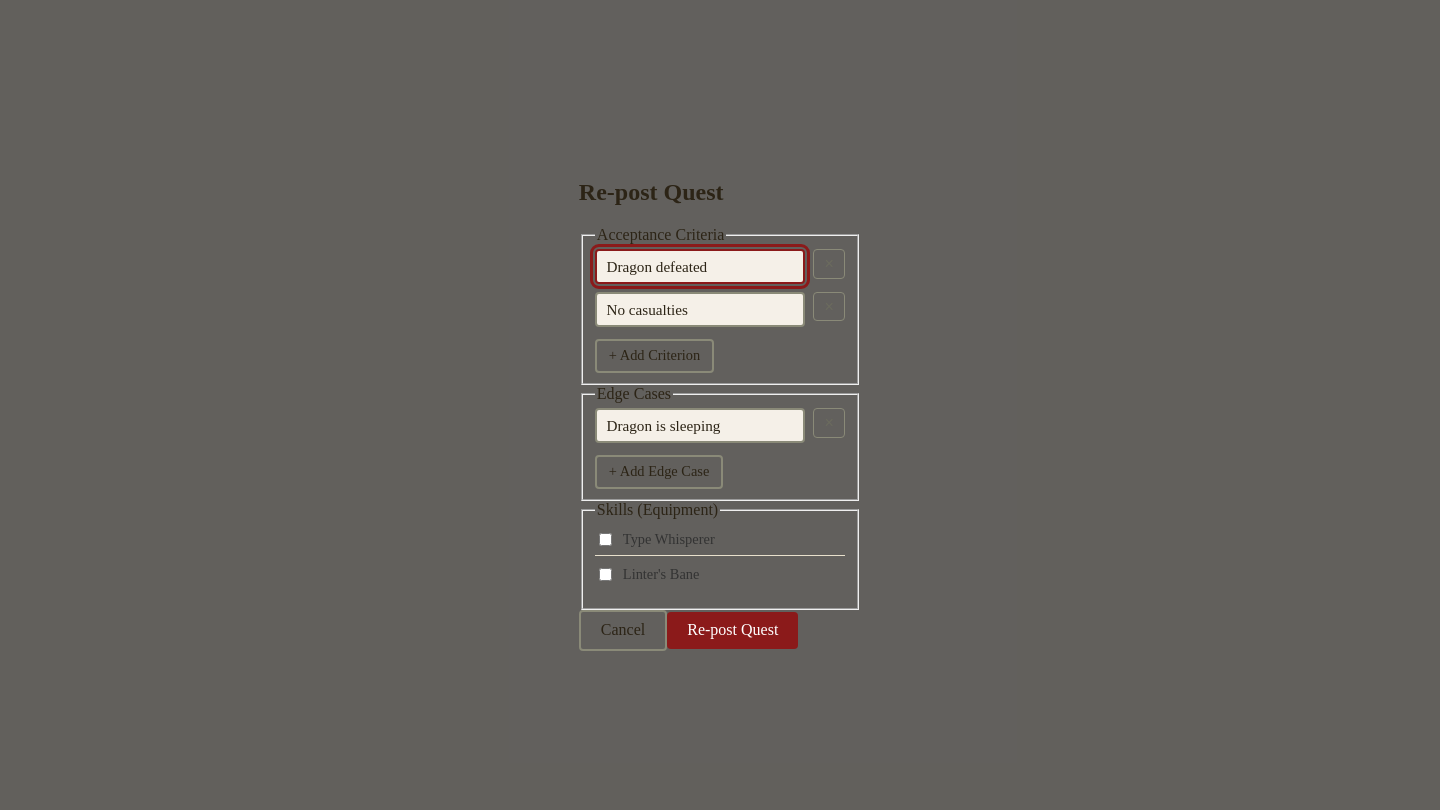
RepostDialog › submit button is disabled when all ACs are cleared
Clear the field named "Criterion 1". click: (700, 267)
box: [595, 249, 805, 284]
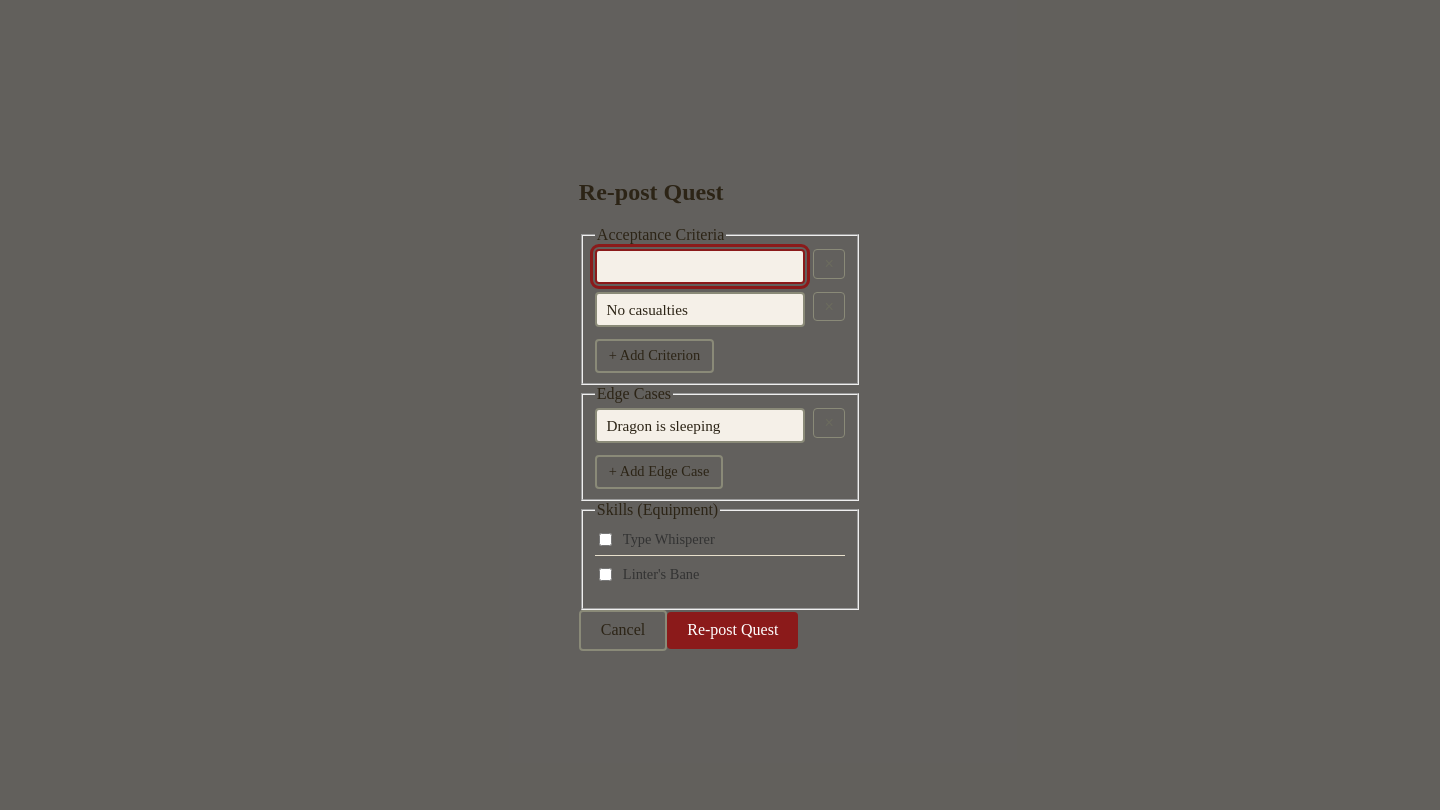
Clear the field named "Criterion 2". click: (700, 310)
box: [595, 292, 805, 327]
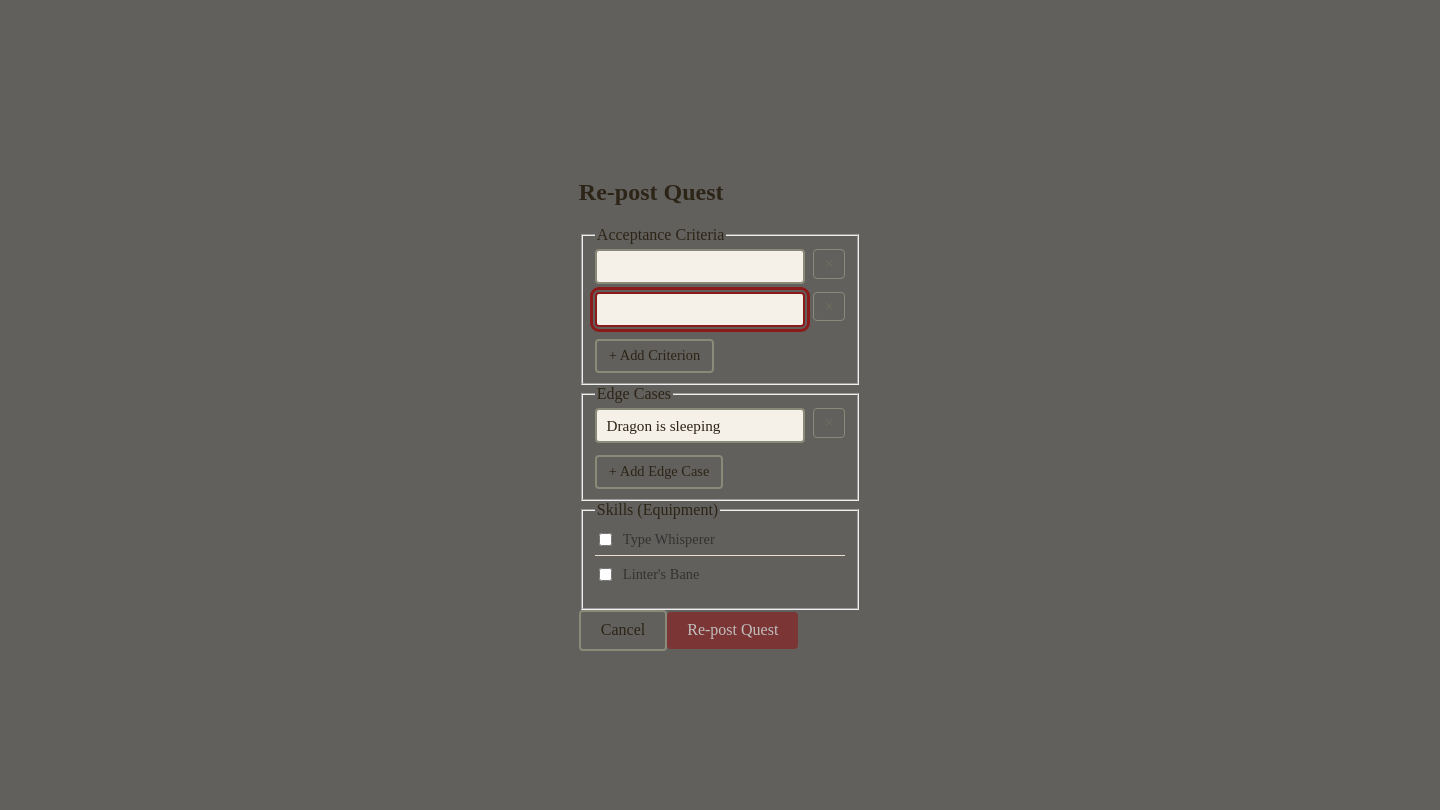
Expected: the button "Re-post Quest" is disabled, [667, 612, 798, 649]
